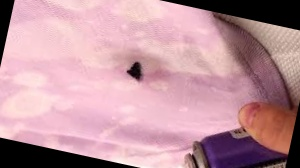ink: (126, 60, 147, 83)
